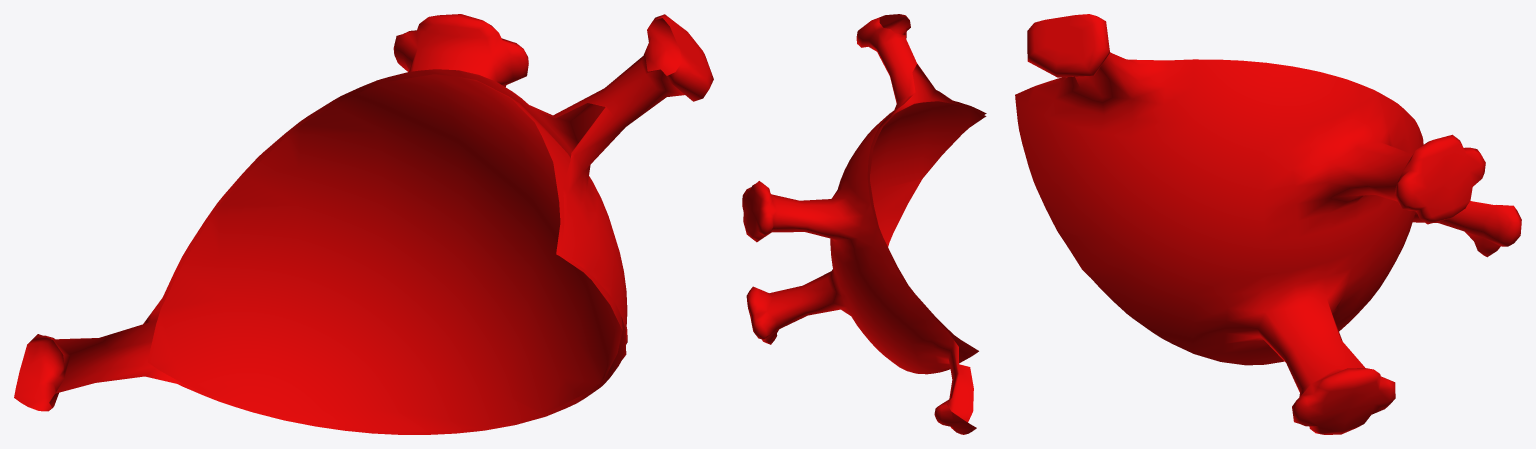
File: debris1.fbx
3 views of the same model, side by side, from view 1: azimuth 30°, elevation 25°; view 2: azimuth 150°, elevation 25°; view 3: azimuth 270°, elevation 25° (orthographic). The views are drawn at different scales.
Visible parts, largest first — view 1: polySurface6; view 2: polySurface6; view 3: polySurface6.
Part boxes in pixels (x1,y1,x2,y2): polySurface6: (14, 14, 713, 434); polySurface6: (742, 14, 986, 434); polySurface6: (1015, 14, 1521, 434).
Size of the model in its own units: 2.08 by 1.88 by 2.16.
